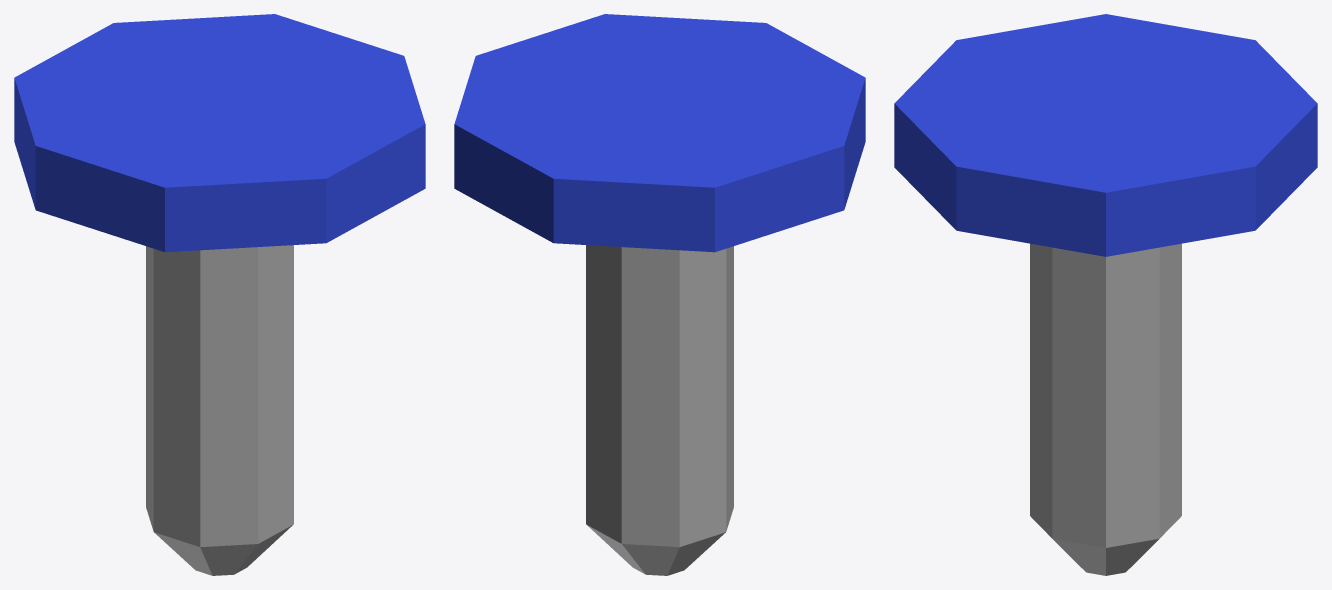
File: screw_blue.gltf
The picture shows the model from 3 angles, left to right: view 1: azimuth 30°, elevation 25°; view 2: azimuth 150°, elevation 25°; view 3: azimuth 270°, elevation 25°; orthographic projection.
Visible parts, largest first — view 1: Cylinder, Cylinder.001; view 2: Cylinder, Cylinder.001; view 3: Cylinder, Cylinder.001.
Boxes of the visible parts, bbox=[...] form: Cylinder: bbox=[14, 14, 425, 252]; Cylinder.001: bbox=[146, 245, 293, 575]; Cylinder: bbox=[454, 14, 865, 252]; Cylinder.001: bbox=[586, 245, 733, 575]; Cylinder: bbox=[894, 14, 1317, 256]; Cylinder.001: bbox=[1030, 243, 1181, 575].
Bounding box in the file's own units: 1.46 × 1.75 × 1.46.
